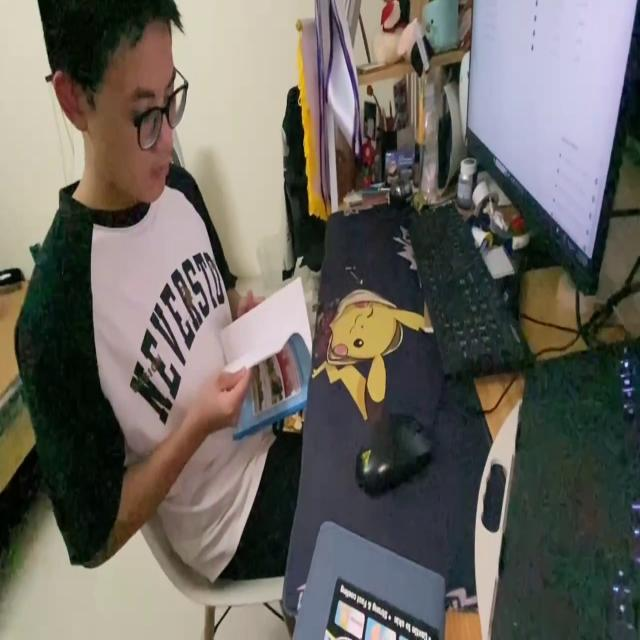book: (211, 273, 318, 440)
laptop: (463, 0, 636, 302)
student: (15, 0, 304, 589)
